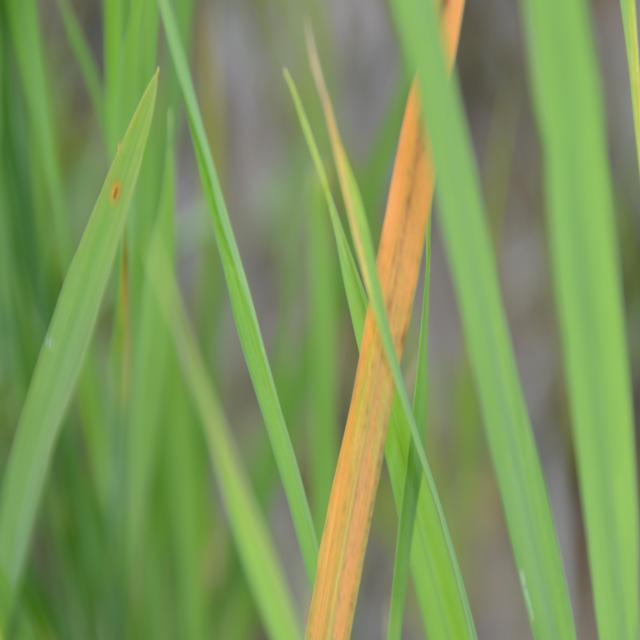Rice Tungro: (321, 33, 477, 640)
